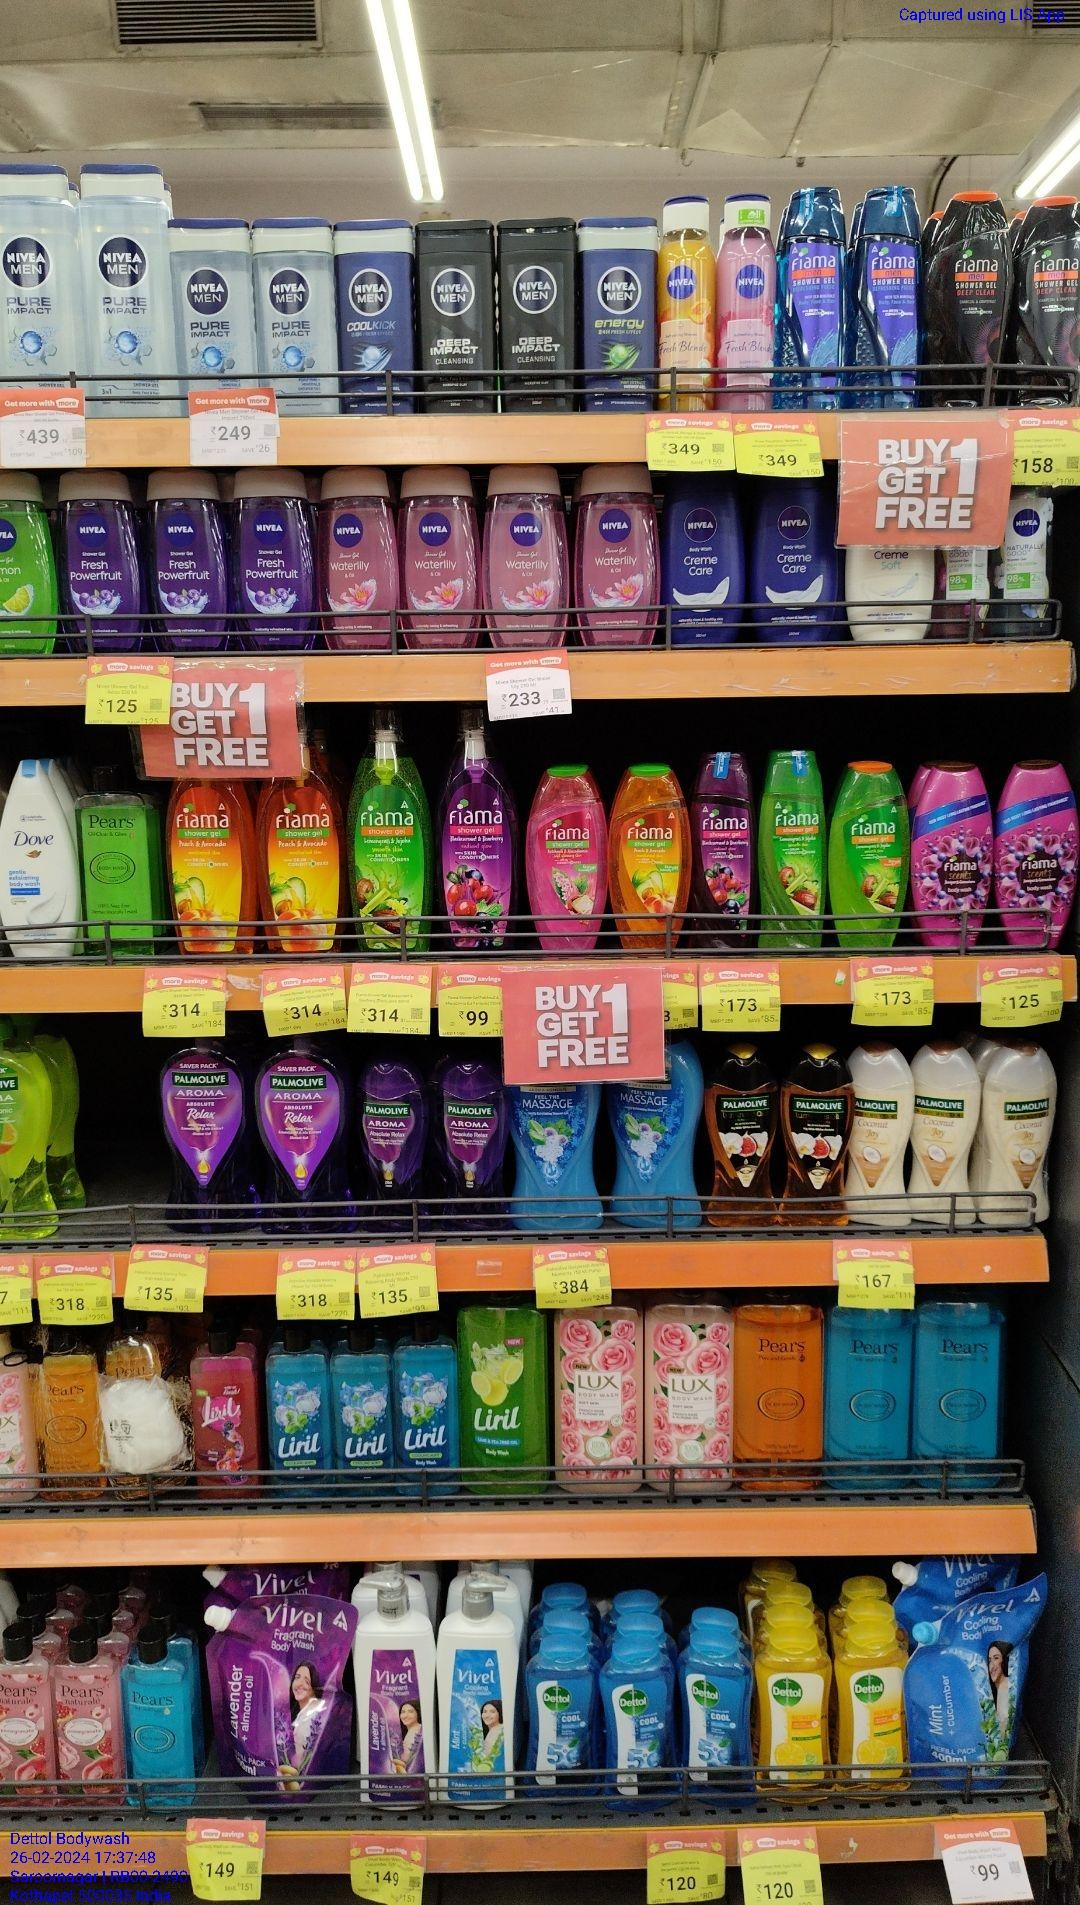Dettol_Bodywash_Cool: (682, 1638, 754, 1809), (526, 1647, 598, 1808), (611, 1642, 678, 1811)
Dettol_Bodywash_Refresh: (761, 1635, 833, 1811), (839, 1633, 907, 1803)
Dove_Gentle_Exfoliating_Body_Wash_250ML: (4, 755, 76, 971)
Fiama_Shower_Gel_Lemongrass_and_Jojoba_250ML: (835, 759, 909, 955), (615, 763, 689, 955)
Fiama_Shower_Gel_Patchouli_and_Macadamia_250ML: (531, 767, 601, 960)
Liril_Cooling_Mint_Body_Wash_250ML: (395, 1319, 458, 1503), (270, 1329, 329, 1506), (334, 1327, 391, 1506)
Nivea_Creme_Care_Body_Wash_250ML: (751, 470, 842, 648), (665, 468, 747, 653)
Nivea_Shower_Gel_Fresh_Powerfruit_250ML: (236, 461, 315, 653), (60, 468, 141, 655), (148, 472, 229, 655)
Nivea_Shower_Gel_Lemon_and_Oil_250ML: (0, 472, 54, 658)
Nivea_Shower_Gel_Waterlily_and_Oil_250ML: (486, 463, 571, 652), (577, 467, 662, 653), (319, 472, 403, 654), (408, 470, 486, 655)
Palmolive_Aroma_Relax_250ML: (435, 1057, 509, 1238), (352, 1064, 425, 1238)
Palmolive_Coconut_Joy_Exfoliating_Body_Wash_250ML: (984, 1043, 1053, 1231), (916, 1045, 981, 1234), (852, 1043, 912, 1235)
Palmolive_Luminous_Oils_With_White_Orchid_Shower_Gel_250ML: (702, 1040, 782, 1231), (782, 1045, 851, 1232)
Pears_Pure_Glycerin_and_Lemon_Flower_Extracts_Body_Wash_250ML: (81, 763, 157, 964)
Pears_Pure_Glycerin_and_Mint_Extracts_Body_Wash_250ML: (122, 1646, 190, 1820)
